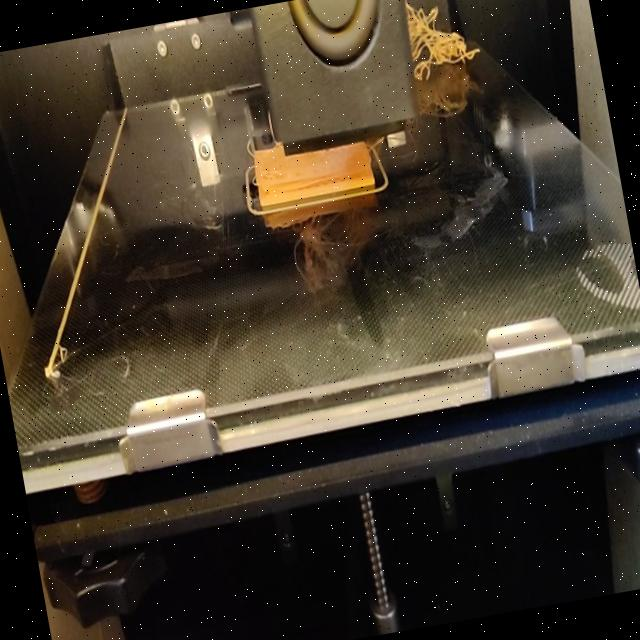spaghetti: (402, 0, 488, 86)
